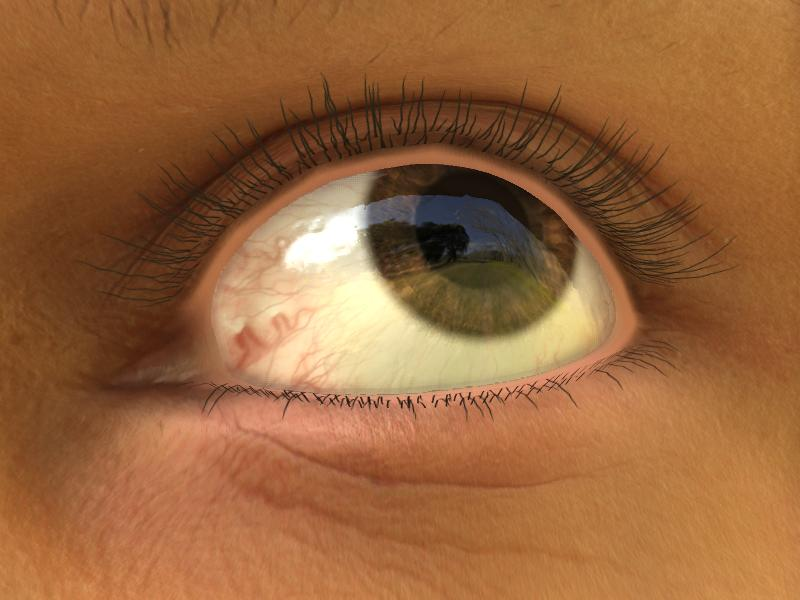eye: (367, 165, 573, 339)
